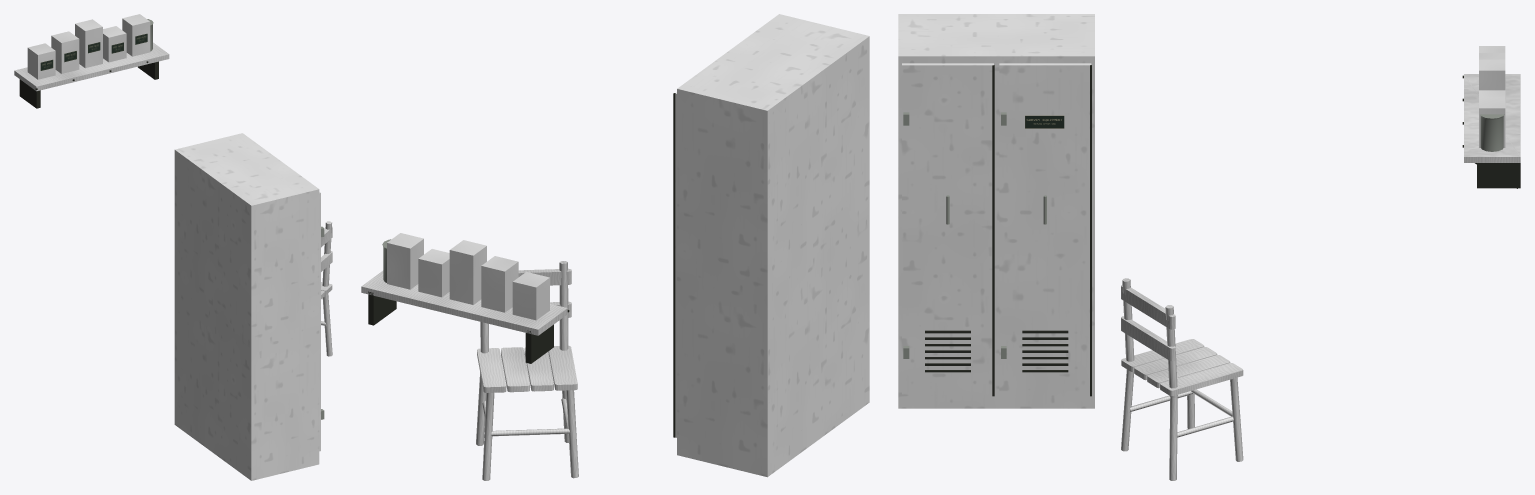
File: SM_FieldStation_Hut_Props_LOD1.glb
The picture shows the model from 3 angles, left to right: view 1: azimuth 30°, elevation 25°; view 2: azimuth 150°, elevation 25°; view 3: azimuth 270°, elevation 25°; orthographic projection. The views are drawn at different scales.
Visible parts, largest first — view 1: SM_FieldStation_Hut_Props_LOD1; view 2: SM_FieldStation_Hut_Props_LOD1; view 3: SM_FieldStation_Hut_Props_LOD1.
Boxes of the visible parts, x1=… form: SM_FieldStation_Hut_Props_LOD1: x1=14, y1=14, x2=332, y2=480; SM_FieldStation_Hut_Props_LOD1: x1=361, y1=14, x2=869, y2=480; SM_FieldStation_Hut_Props_LOD1: x1=898, y1=14, x2=1520, y2=480.
Bounding box in the file's own units: 1.27 × 1.78 × 2.85.
Materials: 9 (6 with a texture image).
